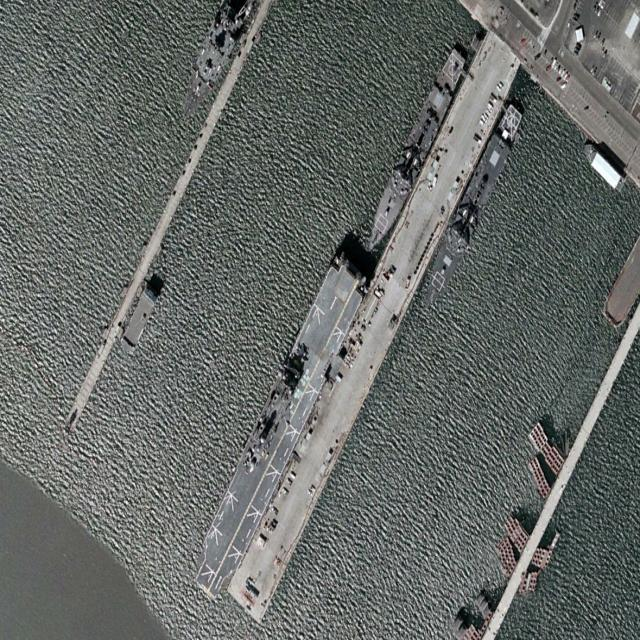Destroyer: (415, 98, 526, 319), (357, 44, 469, 263)
Landing: (186, 251, 368, 609)
